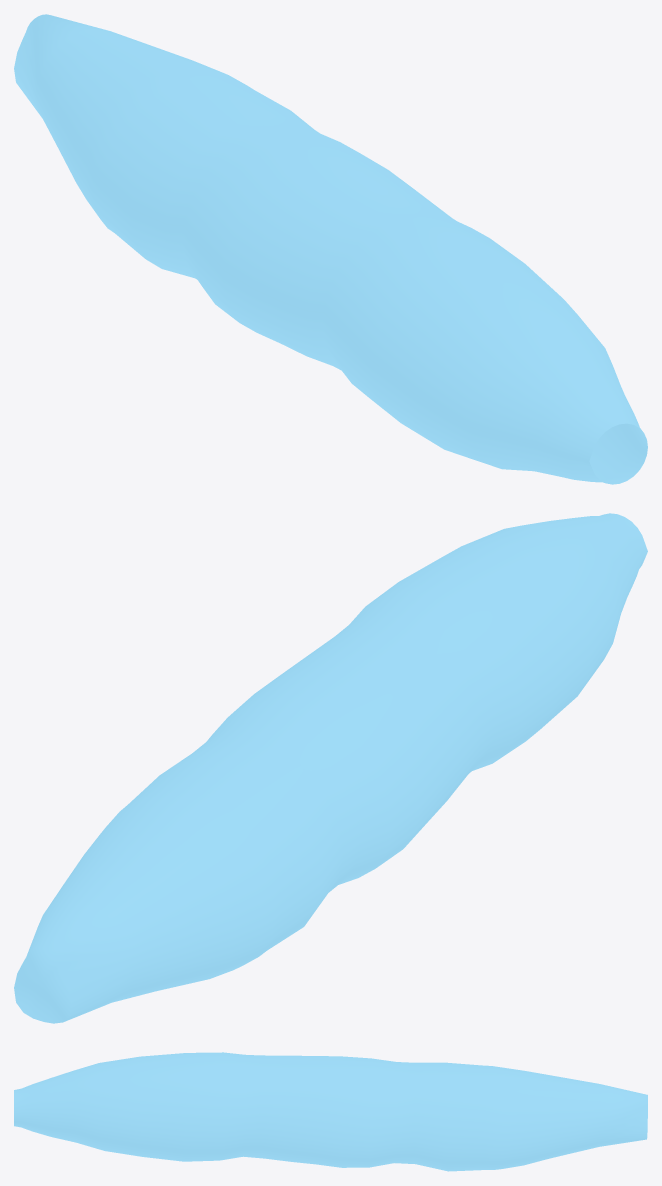
File: ThrustBeam.glb
The picture shows the model from 3 angles, top to bottom: view 1: azimuth 30°, elevation 25°; view 2: azimuth 150°, elevation 25°; view 3: azimuth 270°, elevation 25°; orthographic projection. The views are drawn at different scales.
Visible parts, largest first — view 1: ThrustBeam; view 2: ThrustBeam; view 3: ThrustBeam.
Boxes of the visible parts, <box> form: ThrustBeam: <box>14,14,647,484</box>; ThrustBeam: <box>14,513,647,1023</box>; ThrustBeam: <box>14,1052,647,1171</box>.
Bounding box in the file's own units: 0.1996 × 0.1836 × 1.03.
